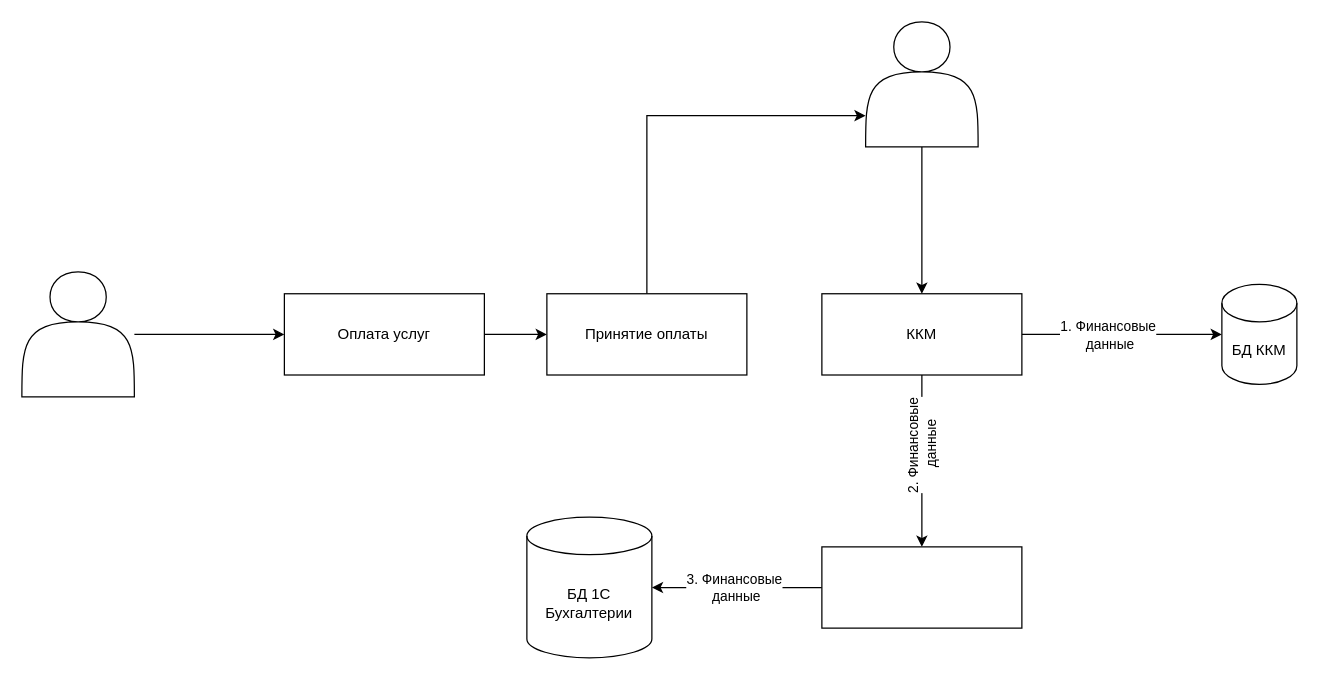
Some shapes in this 1319 by 680 pixel diagram are drawn without their labels. The centre of each missing label's shape, as x and y in pixels:
"1с Бухгалетерия" belongs at (x=921, y=587).
"Кассир" belongs at (x=921, y=84).
"Пациент" belongs at (x=77, y=334).
